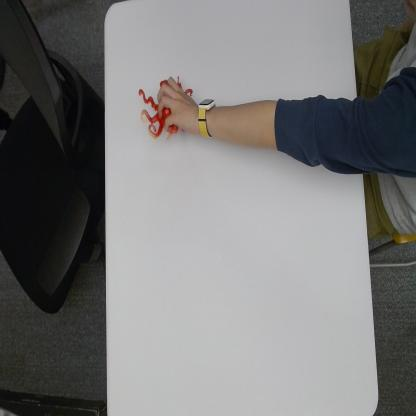Arm: (217, 90, 416, 178)
Octopus: (137, 75, 193, 142)
